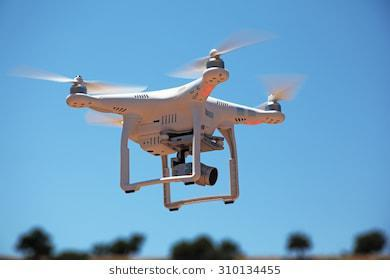drone: (10, 29, 305, 213)
